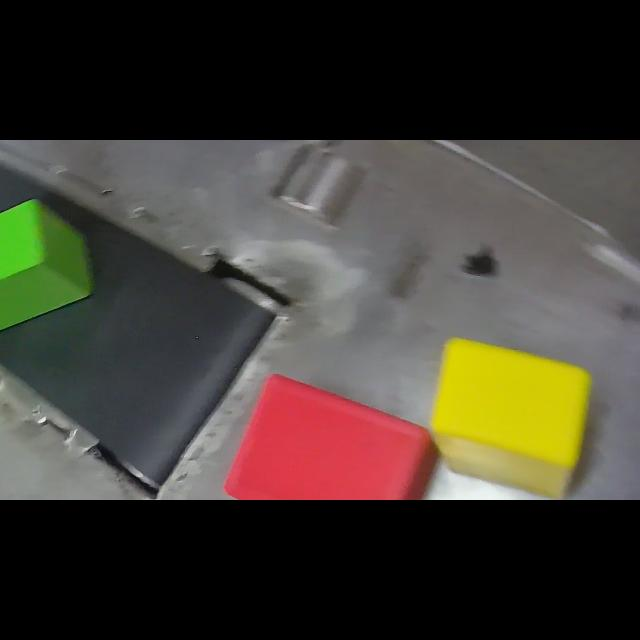greenBox: (0, 196, 104, 346)
redBox: (217, 368, 445, 500)
yellowBox: (426, 328, 600, 500)
